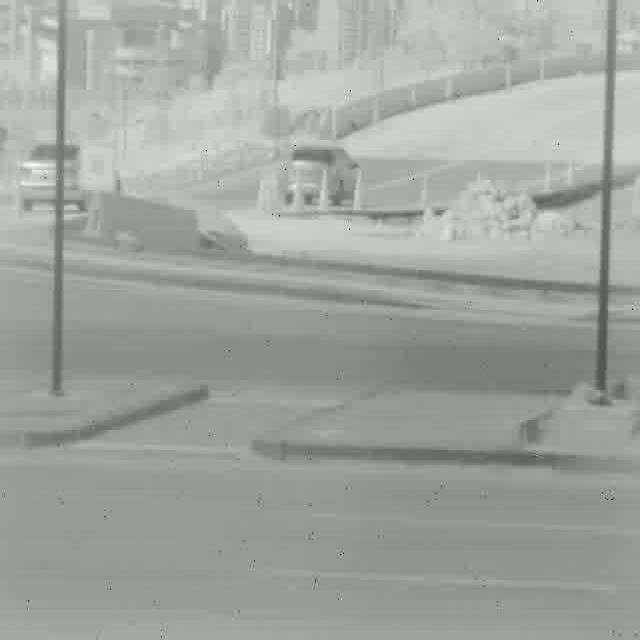Car: (18, 140, 122, 212), (285, 144, 361, 202)
